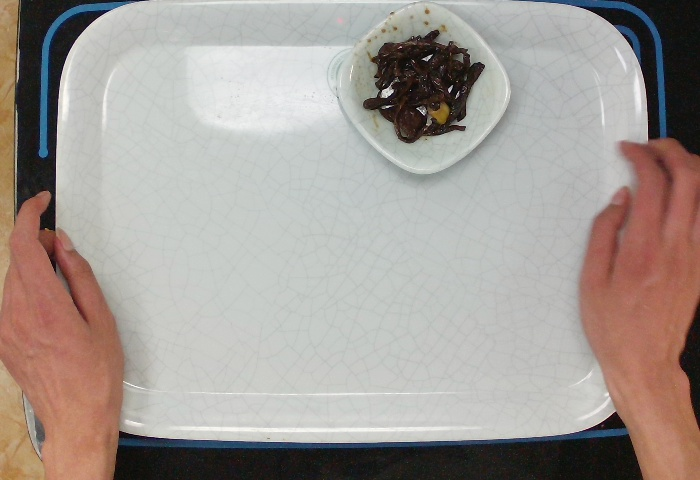JYsf-Si_Fang_Die: (334, 2, 514, 178)
